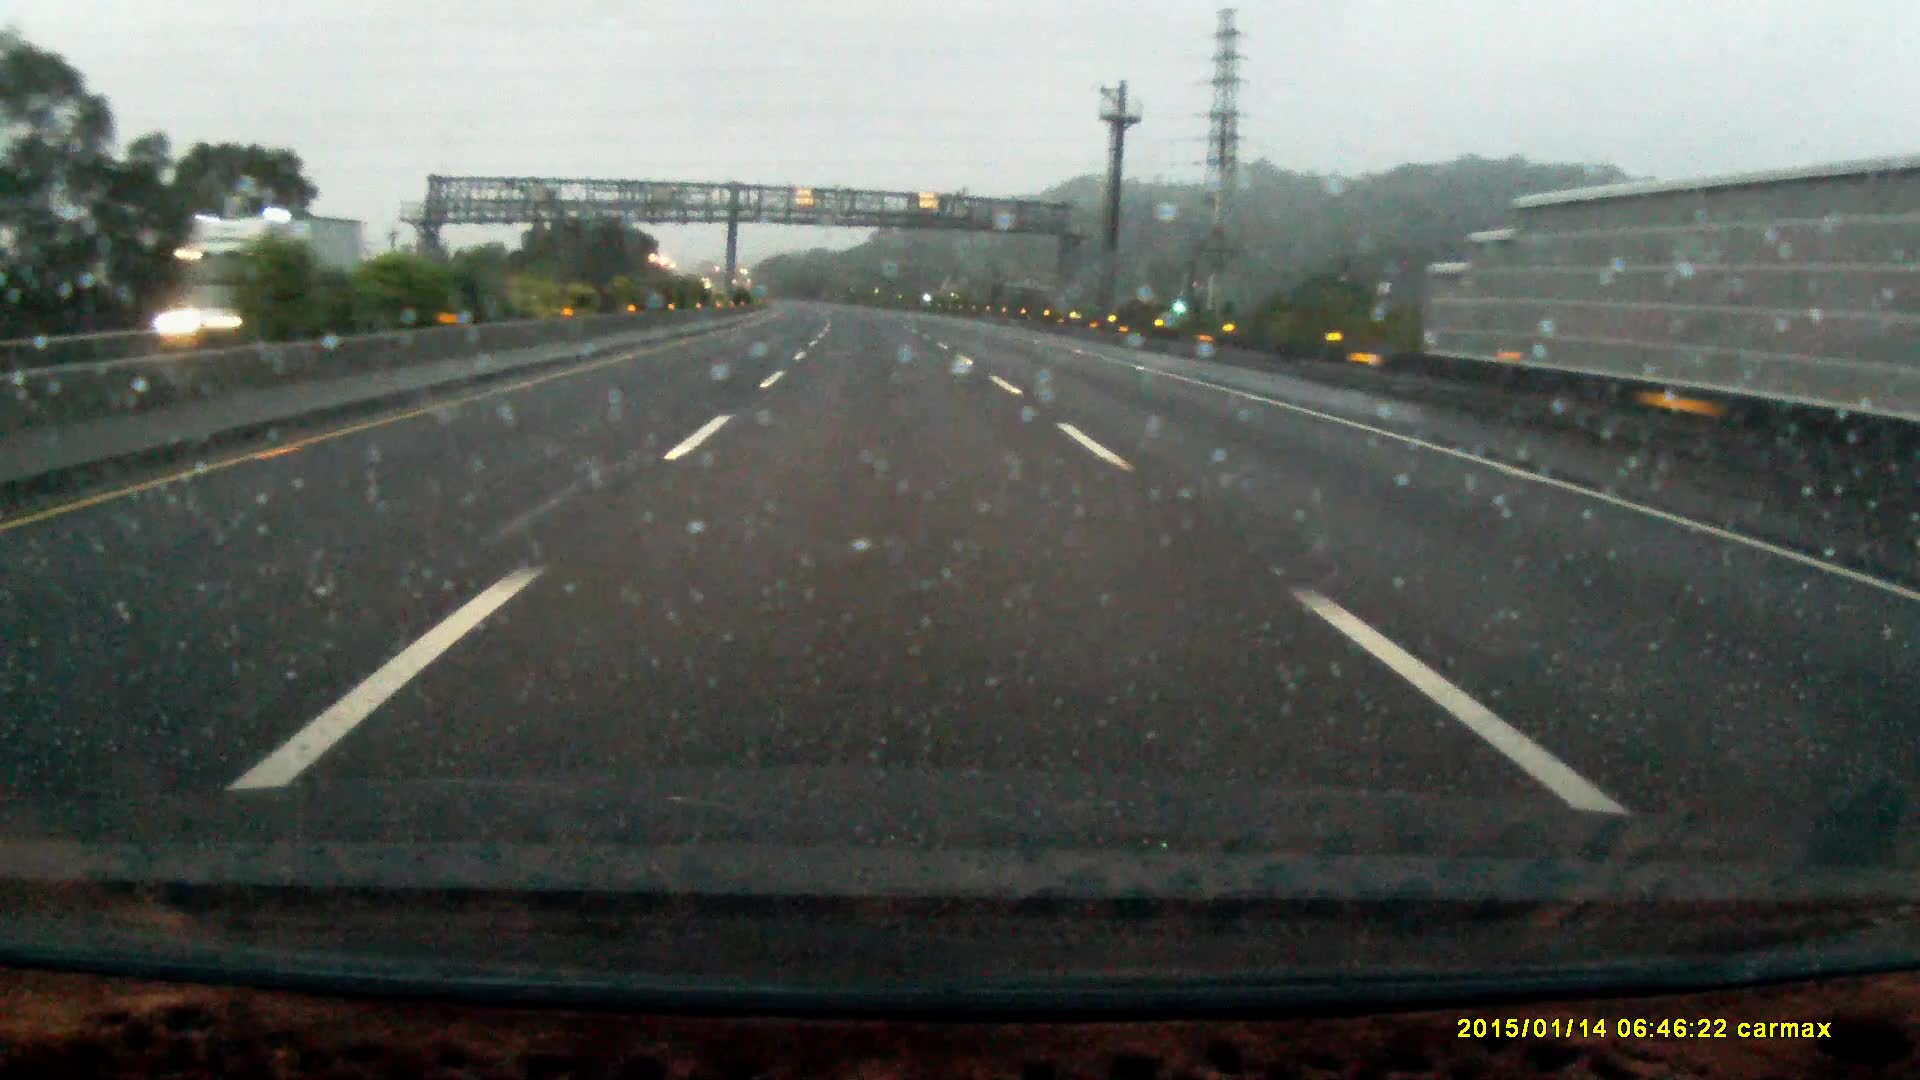vehicle: (166, 218, 357, 330), (150, 285, 269, 363)
